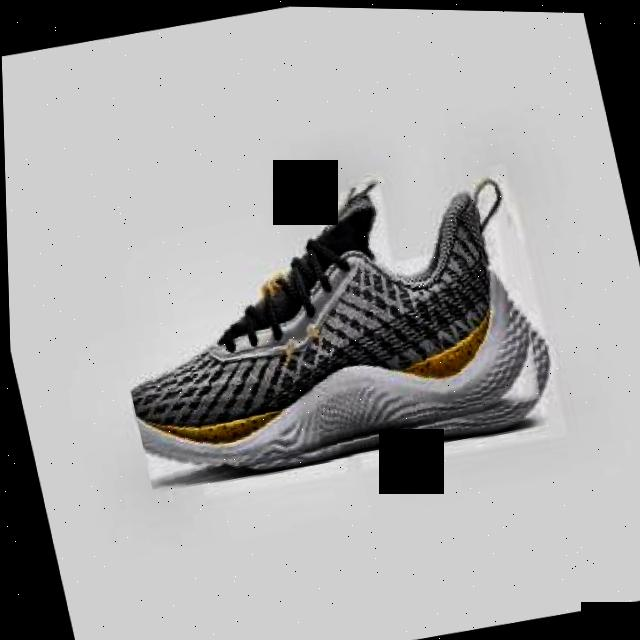shoe: (92, 152, 564, 498)
